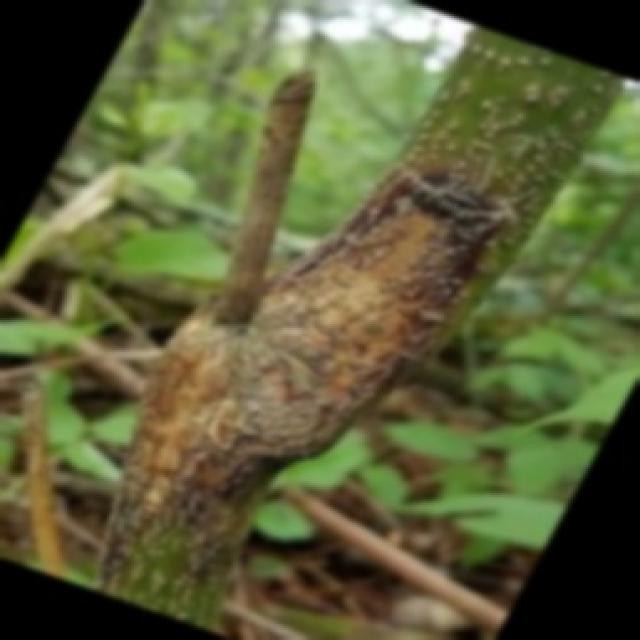Golden_canker: (126, 53, 622, 640)
